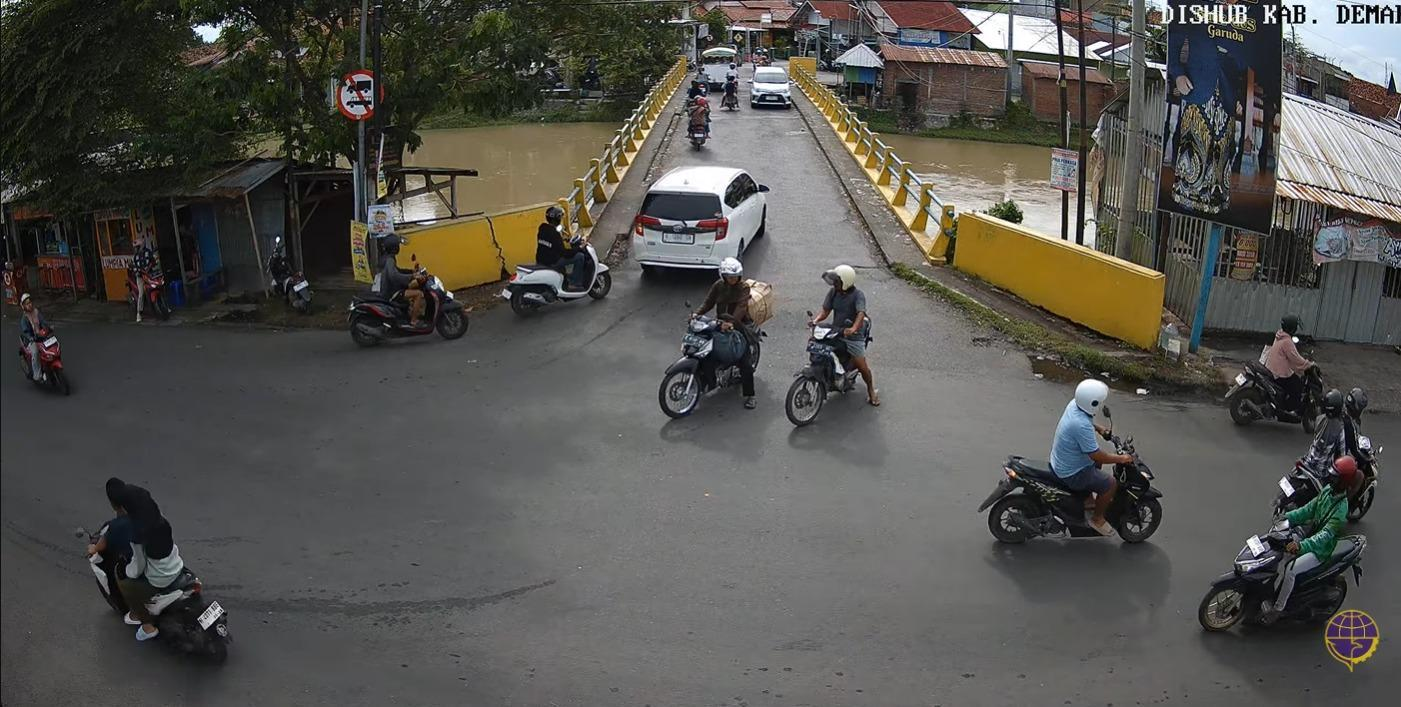Helmet: (1075, 379, 1109, 415), (1329, 455, 1357, 487), (822, 264, 855, 289), (1344, 387, 1367, 417), (1322, 390, 1344, 416), (719, 257, 742, 276), (1281, 314, 1300, 334), (379, 237, 399, 254), (545, 206, 563, 224), (19, 292, 30, 305), (696, 96, 707, 105), (729, 62, 735, 68)
Number Plate: (198, 601, 223, 628), (1246, 536, 1267, 556), (662, 233, 694, 244), (1278, 477, 1295, 497), (683, 334, 706, 346), (808, 341, 829, 353), (293, 280, 308, 291), (43, 336, 57, 346), (1234, 374, 1246, 384)
Rearview Mirror: (1101, 405, 1112, 419), (758, 184, 769, 191), (1292, 336, 1300, 344), (411, 253, 415, 261)
